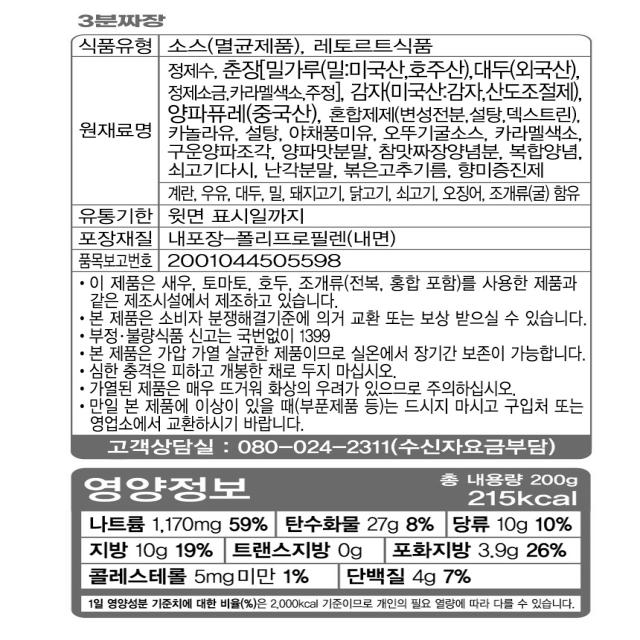Nutrition Label: (61, 459, 603, 631)
